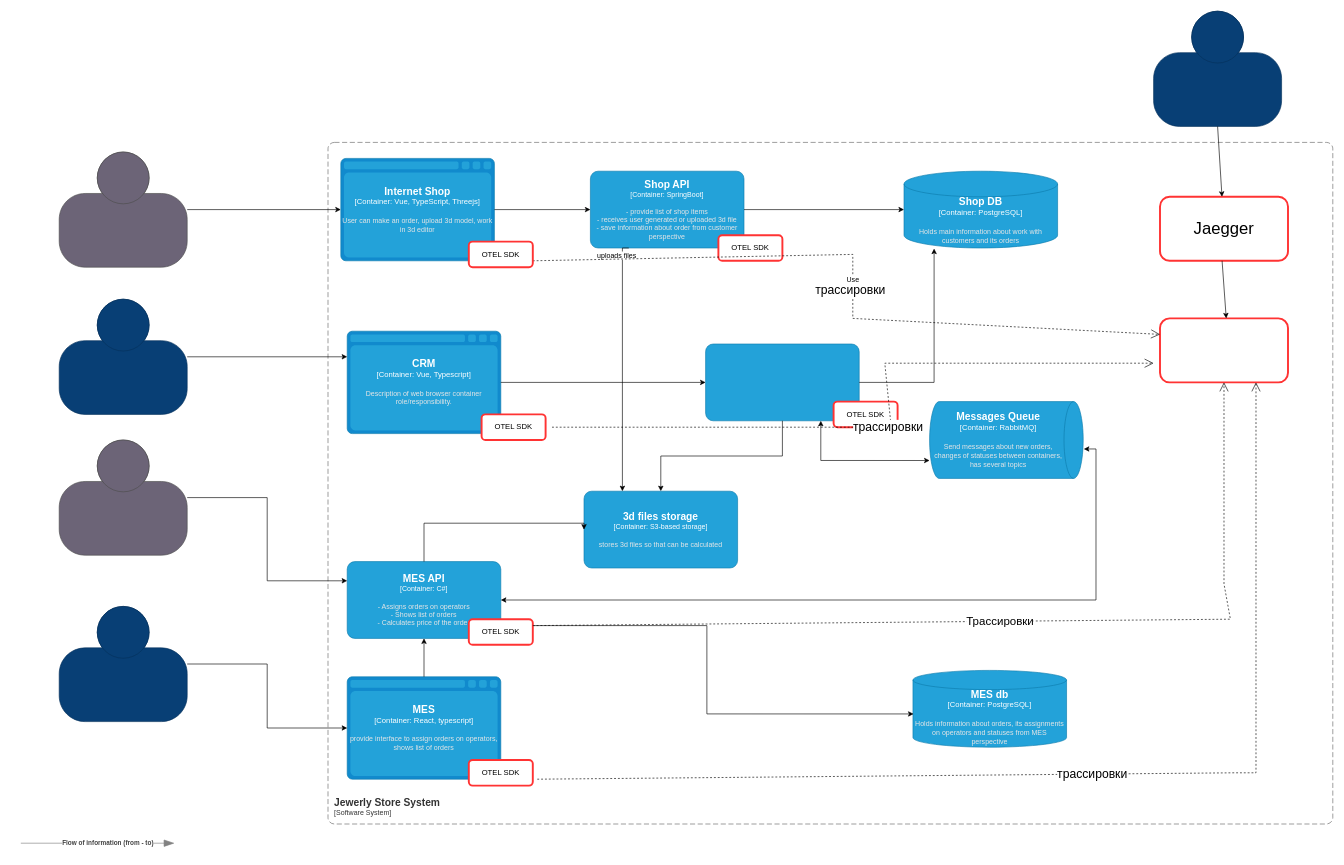
Image size: 1344x865. Some labels were removed from this diagram. Each missing label, with the box of its shape:
API user [Person] Description of external person.: (59, 439, 187, 555)
Business [Person] Аналитика по кастомным трейсам: (1153, 11, 1282, 126)
CRM API [Container: SpringBoot] Description of container role/responsibility.: (705, 343, 859, 421)
Customer [Person] Description of external person.: (59, 151, 187, 267)
Operator [Person] Takes order in work, manufactures jewerly: (59, 606, 187, 722)
OTEL Collector: (1159, 317, 1289, 383)
Seller [Person] Operates with order, confirms manufacturing for the user: (59, 299, 187, 414)
